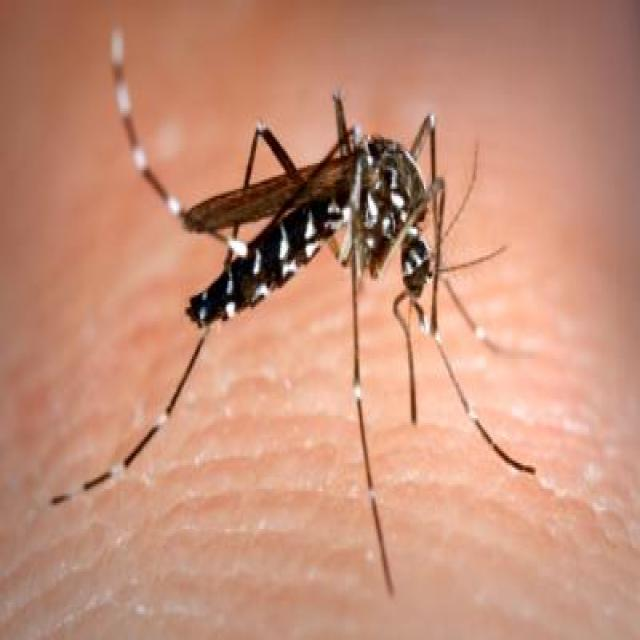antennae: (417, 126, 509, 284)
body: (186, 128, 431, 326)
insect: (49, 19, 538, 593)
legs: (99, 24, 247, 263), (53, 313, 209, 509), (338, 203, 398, 589), (433, 333, 535, 476)
mouthpart: (387, 268, 439, 427)
wings: (183, 148, 357, 234)
